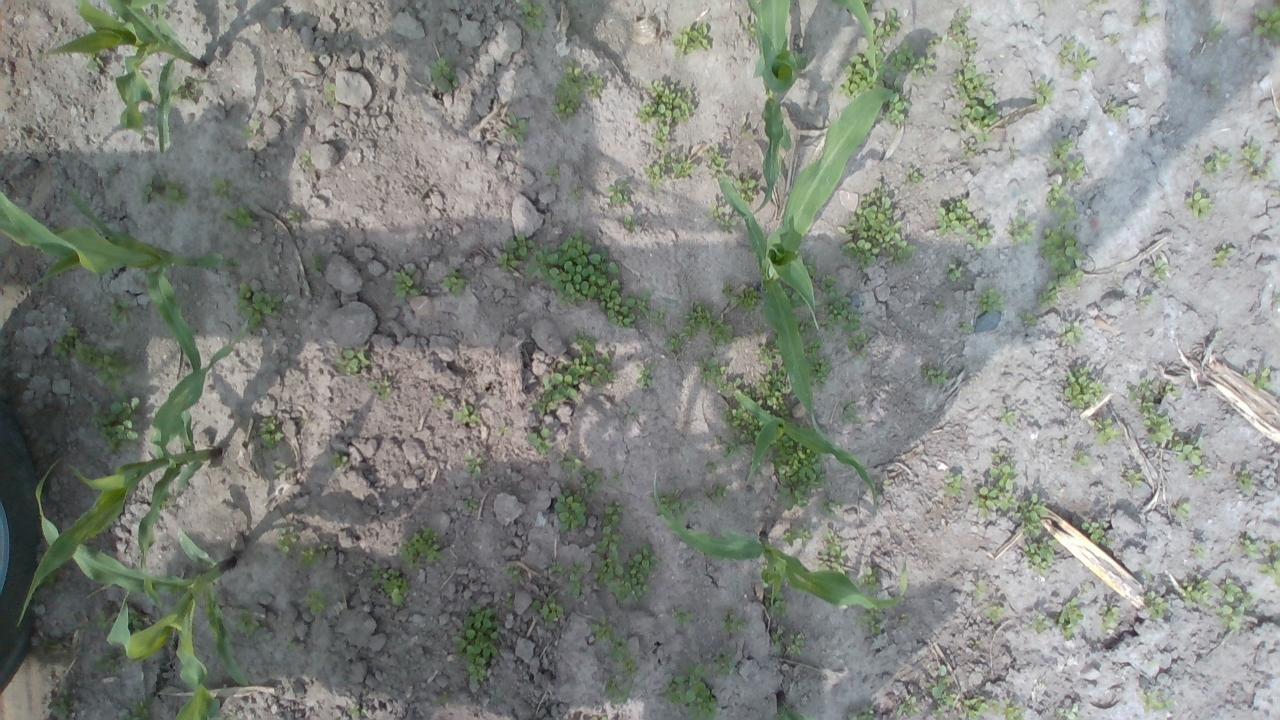Maize: (19, 318, 257, 629), (713, 78, 888, 440), (32, 457, 248, 720), (0, 186, 243, 374), (651, 472, 909, 612), (43, 0, 204, 156), (733, 388, 879, 518), (746, 0, 807, 214), (831, 0, 878, 69), (772, 689, 812, 720)
Weeds: (524, 234, 650, 330), (528, 331, 616, 418), (836, 182, 914, 268), (594, 502, 660, 602), (764, 432, 831, 512), (591, 615, 640, 705), (452, 604, 502, 686), (1126, 374, 1182, 446), (75, 339, 140, 399), (951, 61, 999, 142), (640, 80, 697, 148), (1040, 225, 1088, 305), (658, 660, 720, 720), (754, 334, 792, 420), (974, 451, 1020, 519), (816, 270, 864, 334), (935, 198, 992, 250), (878, 36, 942, 80), (232, 280, 288, 328), (554, 65, 604, 118), (91, 398, 140, 450), (1238, 531, 1280, 588), (682, 302, 736, 345), (1054, 34, 1100, 82), (369, 560, 415, 608), (1216, 574, 1255, 630), (138, 172, 189, 211), (397, 526, 444, 568), (1060, 369, 1106, 409), (721, 404, 766, 444), (926, 664, 958, 720), (1014, 493, 1054, 537), (642, 153, 696, 185), (946, 6, 976, 63), (497, 228, 534, 274), (836, 56, 875, 99), (1171, 438, 1208, 481), (554, 490, 590, 534), (1045, 180, 1079, 224), (672, 22, 712, 59), (703, 358, 742, 395), (814, 530, 846, 575), (872, 8, 901, 57), (802, 339, 832, 385), (1022, 536, 1056, 576), (1052, 138, 1086, 178), (883, 80, 912, 126), (548, 560, 584, 597), (1055, 598, 1086, 640), (1240, 142, 1274, 180), (657, 493, 703, 521), (1184, 186, 1216, 226), (1180, 574, 1214, 610), (217, 204, 259, 233), (334, 344, 372, 376), (430, 56, 460, 96), (1248, 4, 1280, 40), (722, 282, 758, 312), (1080, 518, 1114, 548), (53, 326, 79, 364), (1006, 214, 1038, 244), (708, 202, 741, 230), (1141, 590, 1171, 620), (855, 606, 886, 635), (988, 697, 1027, 720), (392, 265, 419, 298), (258, 415, 284, 449), (1139, 686, 1175, 710), (519, 0, 544, 34), (1204, 148, 1232, 178), (440, 264, 468, 294), (108, 297, 136, 327), (1096, 604, 1122, 636), (532, 598, 566, 622), (527, 429, 555, 457), (578, 465, 604, 494), (958, 695, 988, 720), (721, 610, 752, 634), (605, 179, 632, 206), (1092, 416, 1120, 442), (974, 288, 1004, 312), (128, 696, 160, 718), (838, 399, 864, 426), (234, 606, 260, 633), (782, 286, 810, 311), (210, 175, 238, 200), (704, 144, 726, 175), (712, 647, 736, 675), (1211, 241, 1235, 269), (95, 650, 124, 673), (1248, 368, 1274, 393), (733, 176, 757, 203), (856, 566, 879, 594), (1034, 80, 1056, 109), (504, 117, 530, 141), (982, 600, 1008, 624), (456, 404, 482, 428), (304, 591, 330, 615), (171, 76, 197, 100), (1120, 466, 1145, 490), (919, 366, 950, 385), (368, 379, 396, 400), (896, 696, 924, 717), (202, 695, 225, 720), (941, 472, 964, 497), (764, 592, 789, 615), (1070, 448, 1096, 469), (672, 605, 698, 626), (1104, 99, 1130, 120), (85, 47, 106, 73), (1054, 701, 1082, 720), (462, 453, 483, 478), (706, 485, 730, 506), (56, 689, 72, 720), (720, 439, 746, 458), (1137, 0, 1154, 29), (787, 633, 808, 656), (1150, 257, 1170, 281), (782, 528, 812, 544), (240, 118, 264, 138), (1030, 611, 1052, 632), (126, 607, 144, 632), (769, 622, 785, 650), (276, 529, 296, 551), (796, 317, 818, 337), (299, 546, 321, 566), (849, 335, 868, 358), (94, 605, 110, 632), (1234, 469, 1254, 490), (999, 406, 1020, 426), (822, 497, 844, 516), (1062, 324, 1084, 343), (848, 705, 875, 720), (647, 306, 667, 326), (636, 367, 653, 390), (799, 254, 818, 274), (1172, 500, 1192, 518), (542, 158, 560, 178), (1206, 22, 1226, 40), (562, 454, 580, 474), (945, 263, 963, 282), (662, 333, 680, 352), (150, 4, 167, 24), (324, 80, 338, 104), (462, 495, 482, 511), (284, 208, 303, 224), (502, 562, 520, 578), (961, 142, 977, 159), (349, 703, 368, 717), (434, 691, 451, 706), (1190, 544, 1208, 558), (742, 22, 756, 40), (1022, 312, 1037, 328), (625, 403, 641, 418), (161, 494, 176, 509), (1136, 293, 1152, 307), (906, 168, 922, 182), (968, 638, 984, 652), (738, 127, 755, 140), (502, 591, 515, 608), (959, 321, 974, 335), (704, 461, 720, 474), (309, 253, 321, 270), (329, 452, 346, 464), (144, 78, 158, 92), (284, 638, 300, 650), (80, 534, 98, 544), (271, 461, 287, 472), (976, 582, 986, 599), (932, 300, 946, 312), (432, 394, 446, 406), (567, 190, 583, 200), (1208, 79, 1218, 95), (1086, 0, 1112, 6), (301, 150, 312, 162), (78, 622, 90, 633), (622, 215, 636, 224), (1108, 33, 1119, 44), (590, 714, 608, 720), (496, 426, 509, 434), (884, 478, 894, 487), (1142, 568, 1150, 578), (264, 632, 274, 640), (761, 564, 767, 570)
